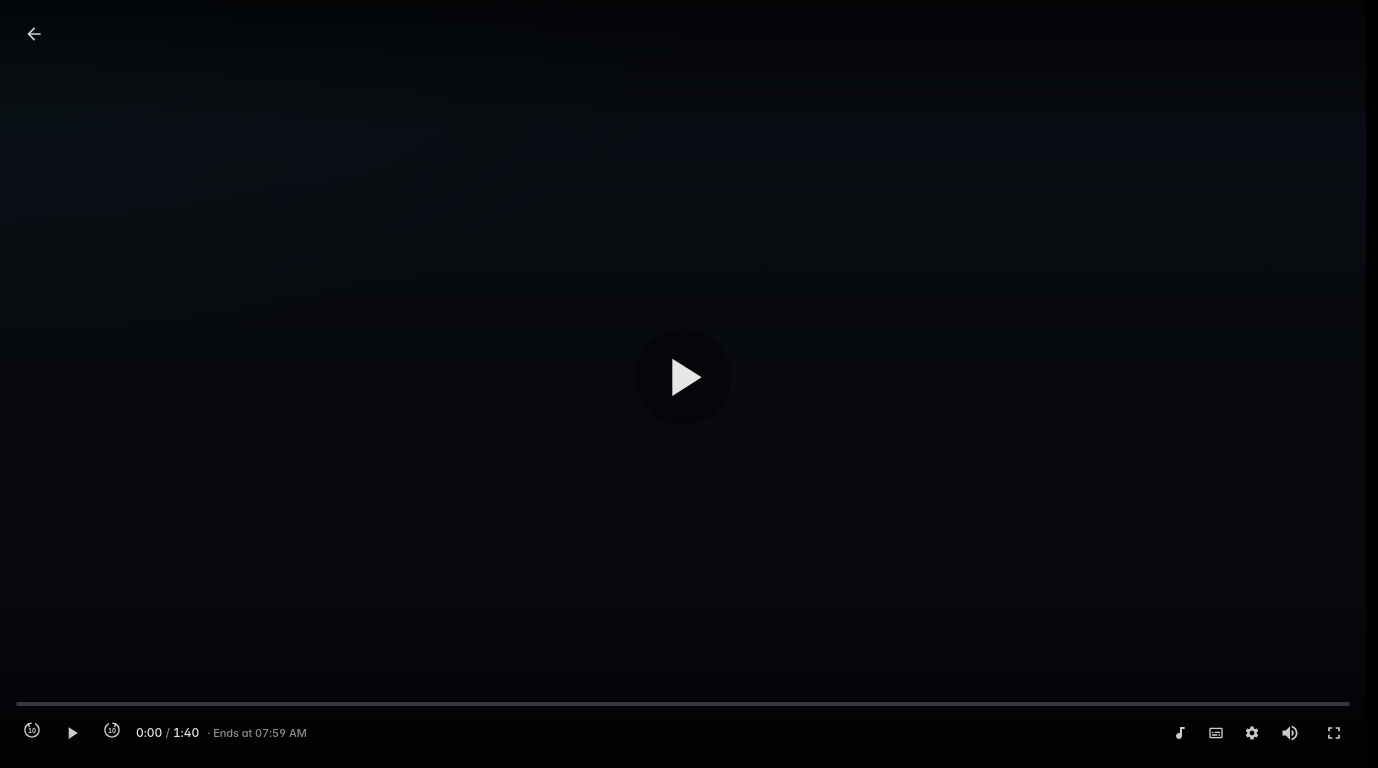
Scenario: PlayerControls — audio picker › opens the audio sheet/popover and shows enriched labels
The image size is (1378, 768).
Click the button named "audio". click: (1180, 733)
box: left=1166, top=719, right=1194, bottom=747
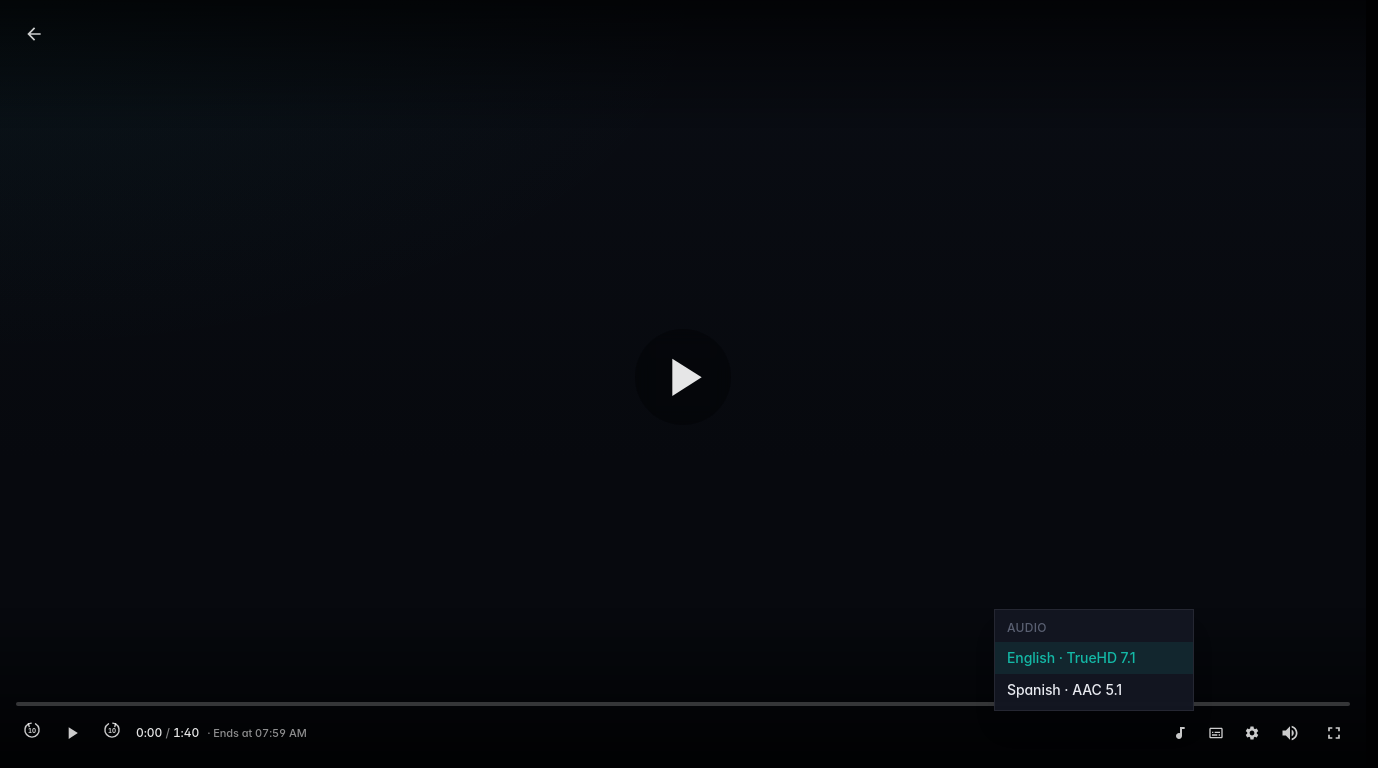
Expected: the text "English · TrueHD 7.1" is shown, left=1007, top=649, right=1135, bottom=666
Expected: the text "Spanish · AAC 5.1" is shown, left=1007, top=681, right=1122, bottom=698
